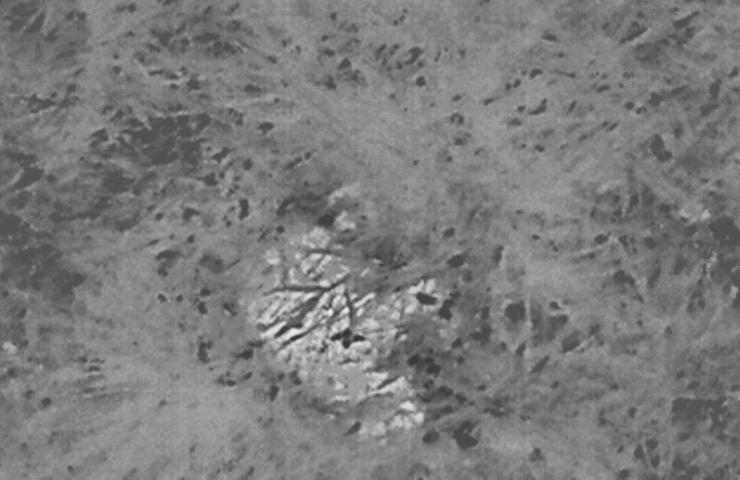landmines: (245, 232, 449, 441)
